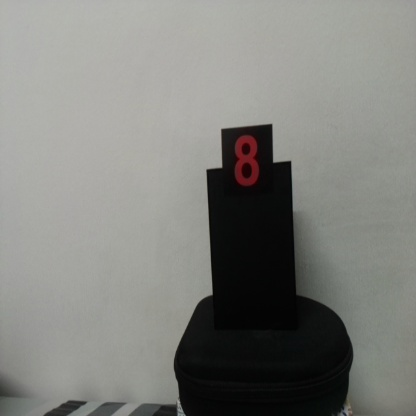id_8: (221, 128, 274, 209)
